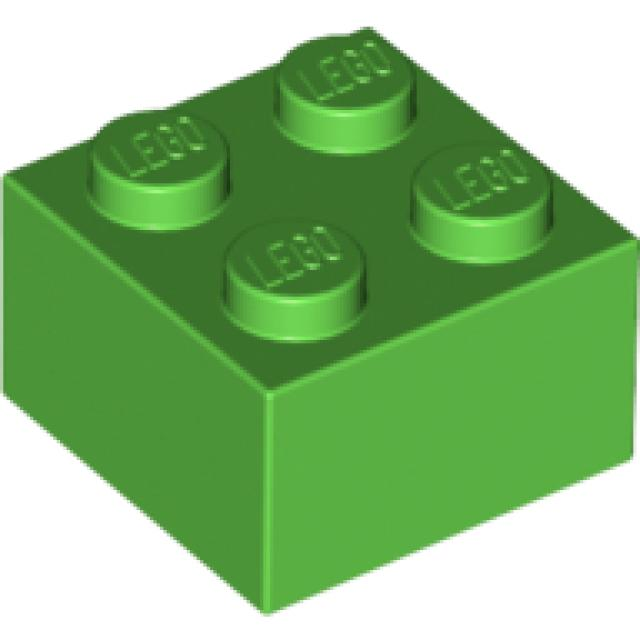Green_Medium: (3, 30, 640, 617)
